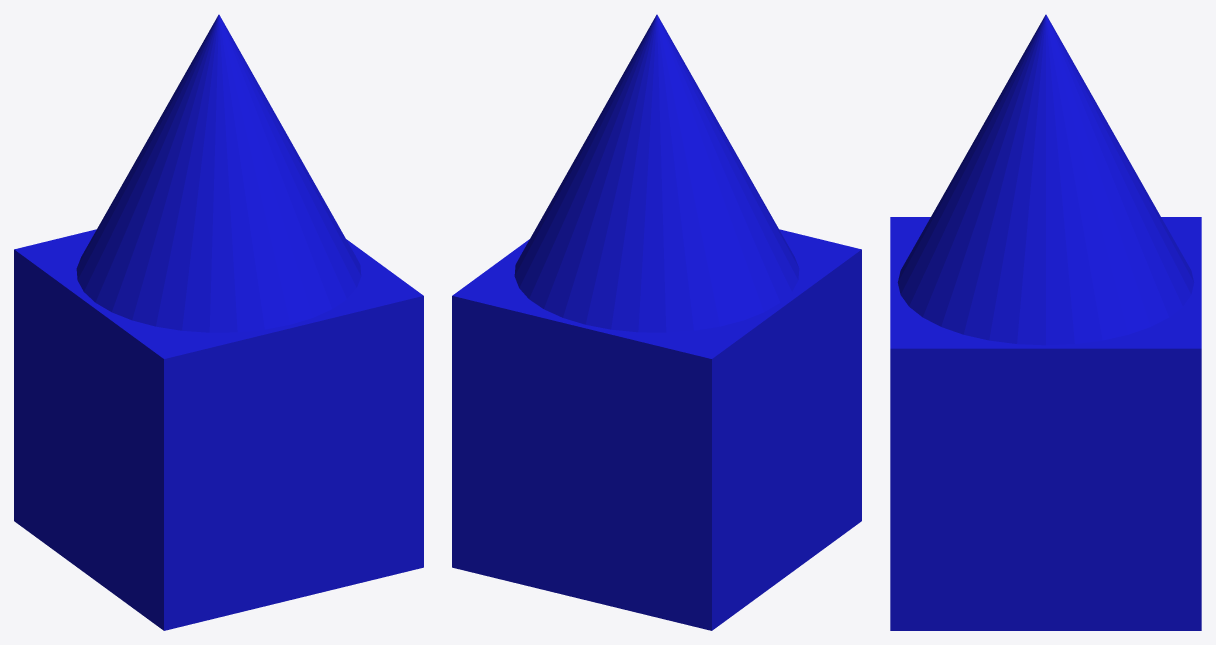
File: TestCube.glb
3 views of the same model, side by side, from view 1: azimuth 30°, elevation 25°; view 2: azimuth 150°, elevation 25°; view 3: azimuth 270°, elevation 25° (orthographic). The views are drawn at different scales.
Visible parts, largest first — view 1: Cube, Cone; view 2: Cube, Cone; view 3: Cube, Cone.
Part boxes in pixels (bbox=[...]): Cube: bbox=[14, 229, 423, 630]; Cone: bbox=[76, 14, 361, 332]; Cube: bbox=[452, 229, 861, 630]; Cone: bbox=[514, 14, 799, 332]; Cube: bbox=[890, 217, 1201, 630]; Cone: bbox=[897, 14, 1194, 345].
Size of the model in its own units: 2 by 3.9 by 2.
